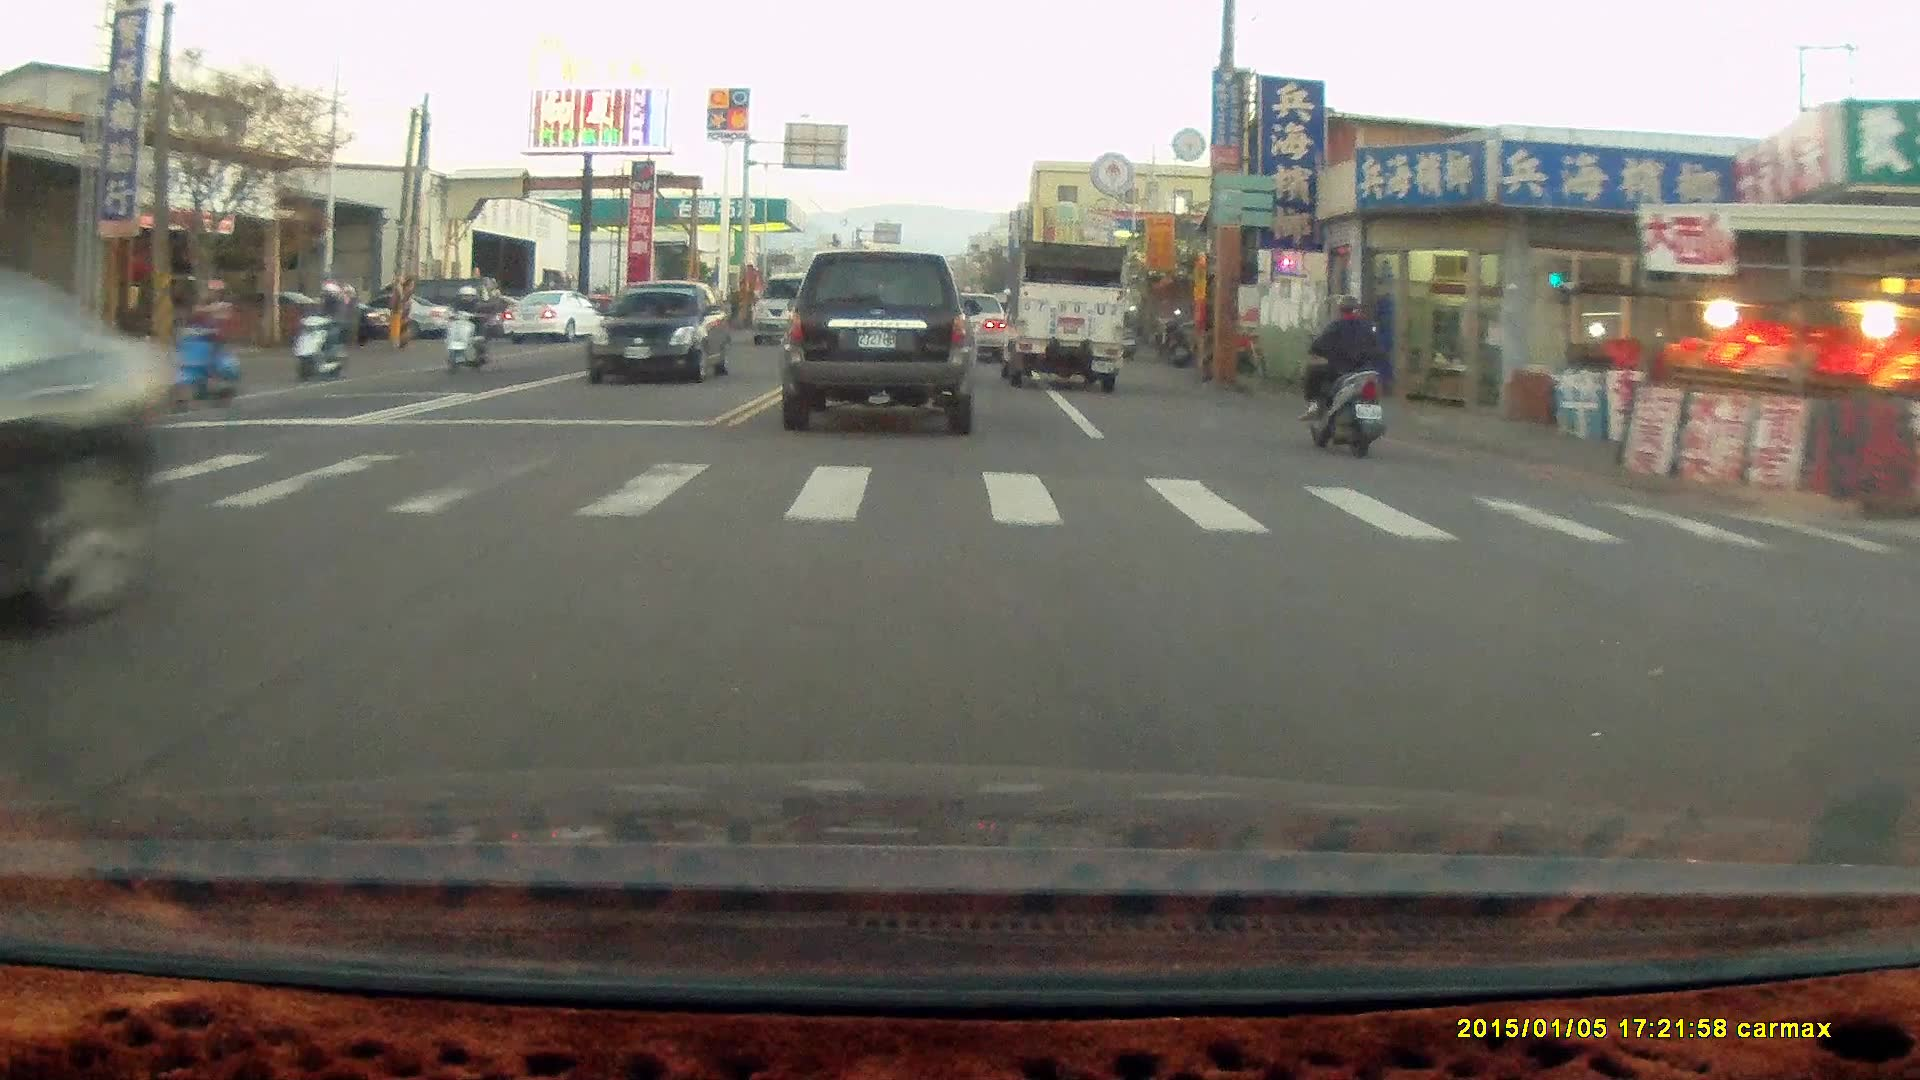rider: (1293, 288, 1385, 453), (159, 272, 238, 408), (287, 279, 354, 382), (442, 283, 493, 372)
vehicle: (775, 251, 983, 436), (996, 241, 1127, 394), (591, 282, 735, 385), (750, 271, 836, 346), (512, 292, 615, 349), (935, 292, 1009, 366)
